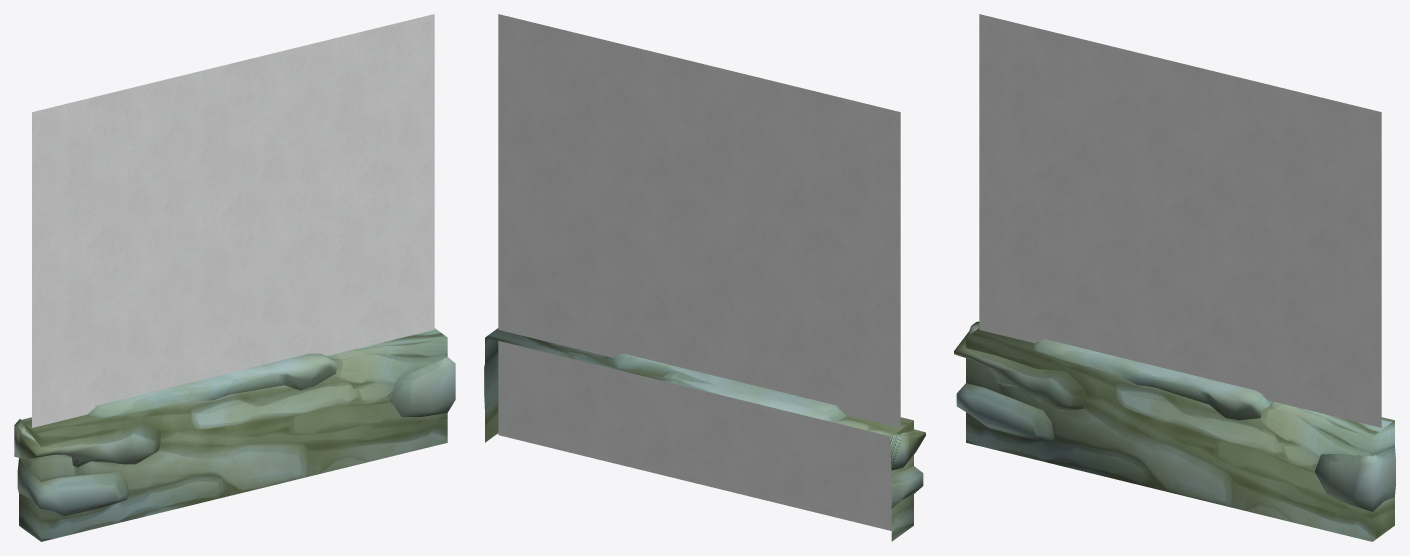
The model's file is PlasterWall_Square_RockBottom.fbx.
3 renders of one model, left to right at view 1: azimuth 30°, elevation 25°; view 2: azimuth 150°, elevation 25°; view 3: azimuth 330°, elevation 25°, orthographic.
Visible parts, largest first — view 1: PlasterWall_Square_RockBottom; view 2: PlasterWall_Square_RockBottom; view 3: PlasterWall_Square_RockBottom.
Boxes of the visible parts, <box> form: PlasterWall_Square_RockBottom: <box>14,14,455,541</box>; PlasterWall_Square_RockBottom: <box>484,14,925,541</box>; PlasterWall_Square_RockBottom: <box>954,14,1395,541</box>.
Bounding box in the file's own units: 4.17 × 4 × 0.4604.
